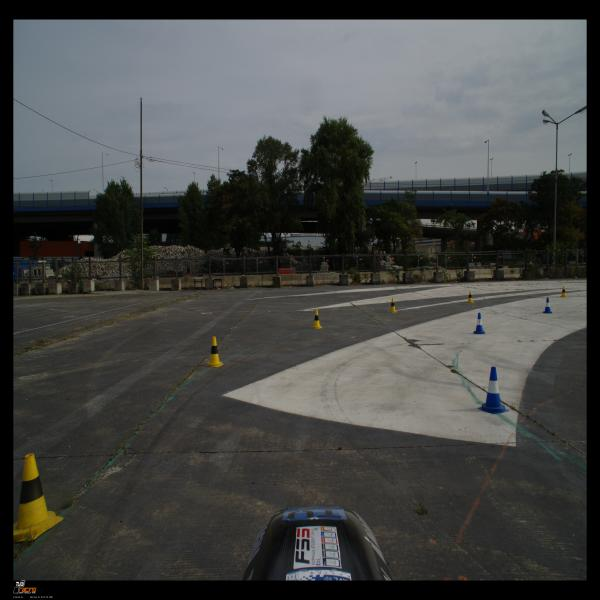blue_cone: (478, 367, 509, 414), (474, 313, 486, 334), (543, 298, 552, 313)
yellow_cone: (14, 453, 64, 542), (205, 336, 224, 368), (311, 309, 323, 328), (388, 298, 397, 313), (466, 291, 474, 303), (560, 286, 567, 297)
